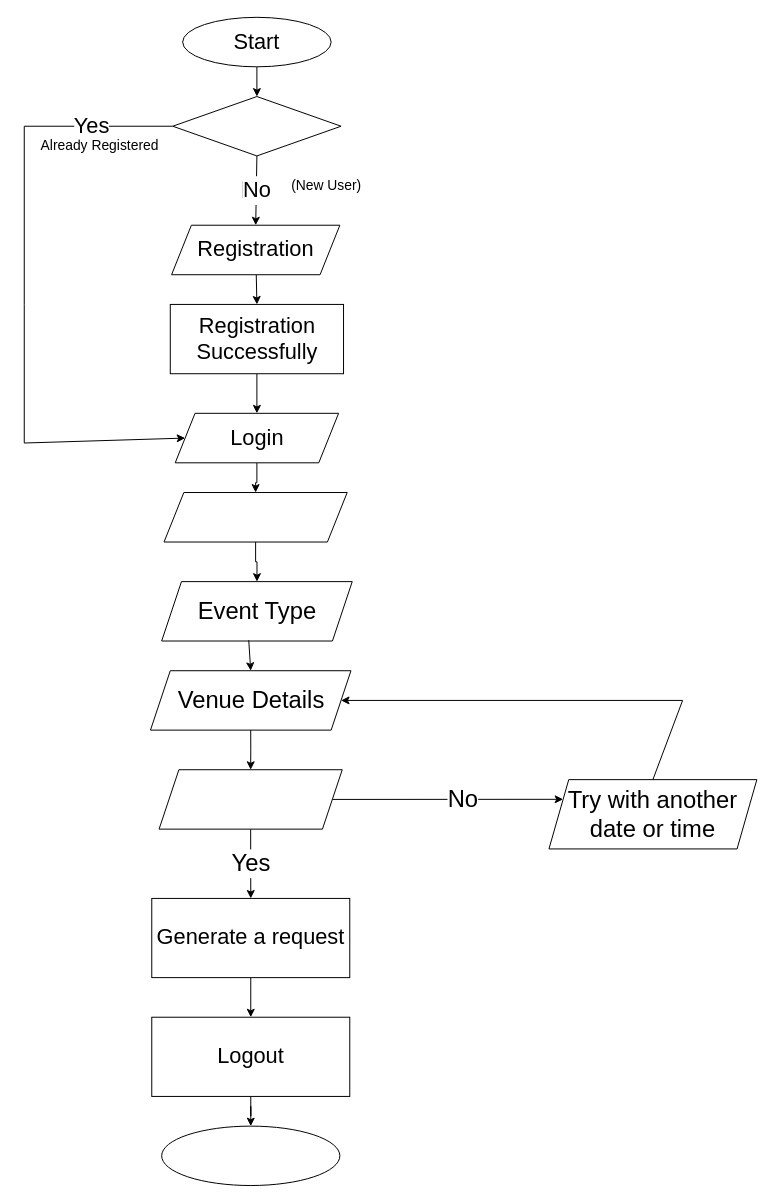
Some shapes in this 774 by 1203 pixel diagram are drawn without their labels. Here are the shapes that lost their labels. From the top down, the box of each, then its label:
(172, 96, 341, 156): Is registered
(163, 492, 347, 542): Choose City
(158, 769, 342, 829): Availability
(161, 1125, 340, 1186): End
